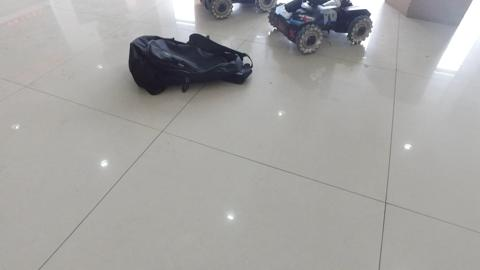bag: (129, 33, 255, 95)
chariot: (271, 1, 372, 53)
